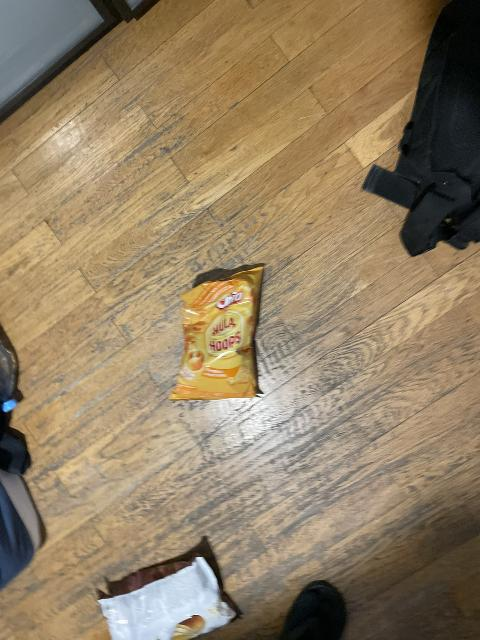Chio Hula Hoops Cheese 70g: (170, 266, 268, 399)
Lays Beef Grilled Ribs 125g: (95, 541, 242, 637)
